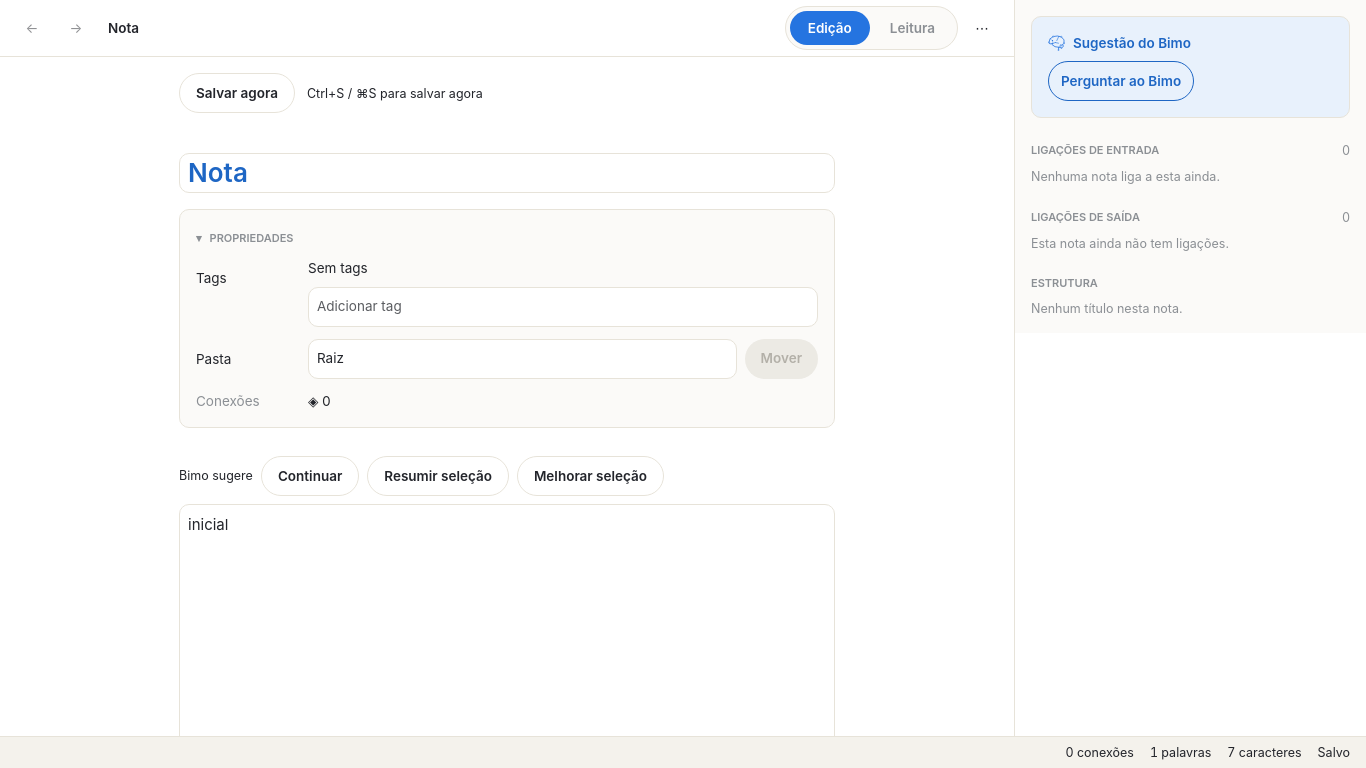
it: resolve conflito: usar e mantém foco
Replace the text in the text box named "Texto da nota" with "minha". click: (507, 632)
box: x1=179 y1=504 x2=835 y2=760
Wait 63000 ms
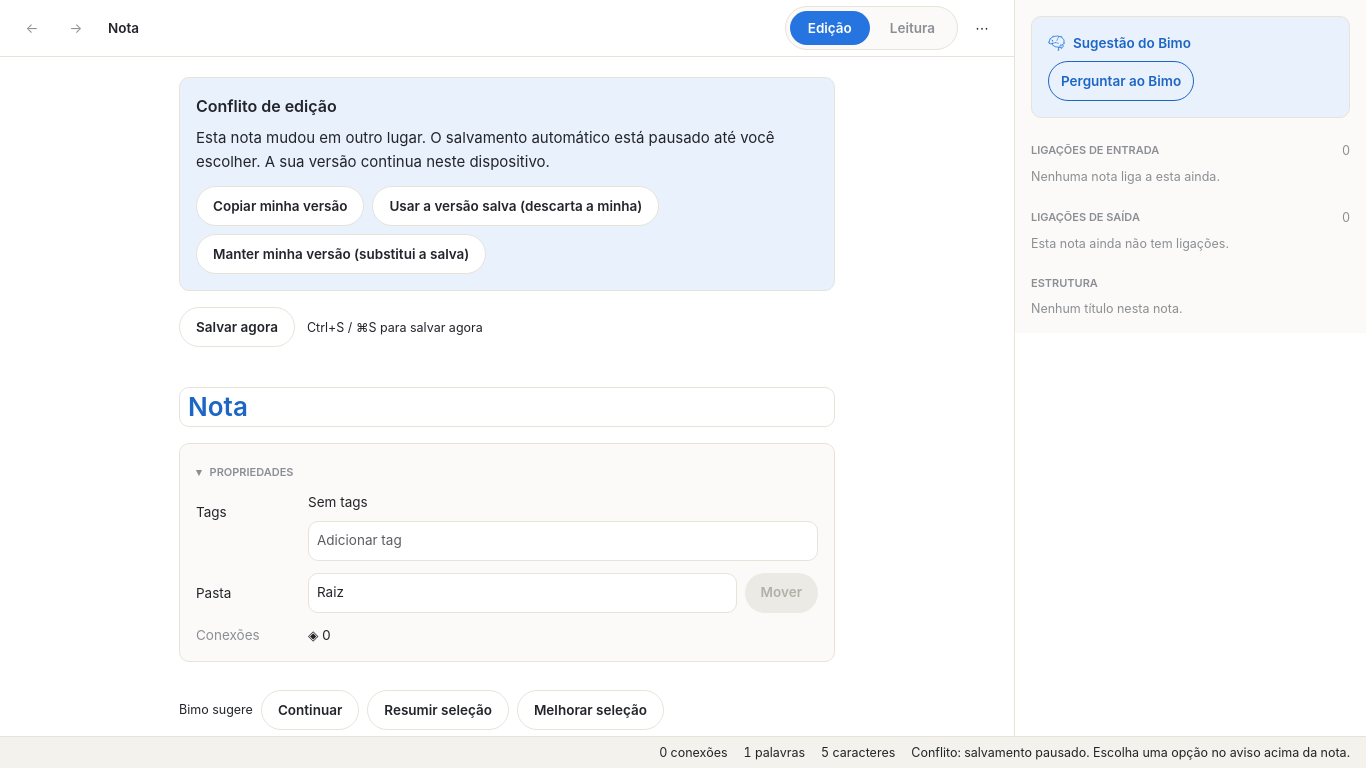
expect the element "Conflito de edição" is shown: met, box x1=147 y1=57 x2=867 y2=291
Click the button "Usar a versão salva (descarta a minha)". click: (516, 206)
box: x1=372 y1=186 x2=659 y2=226
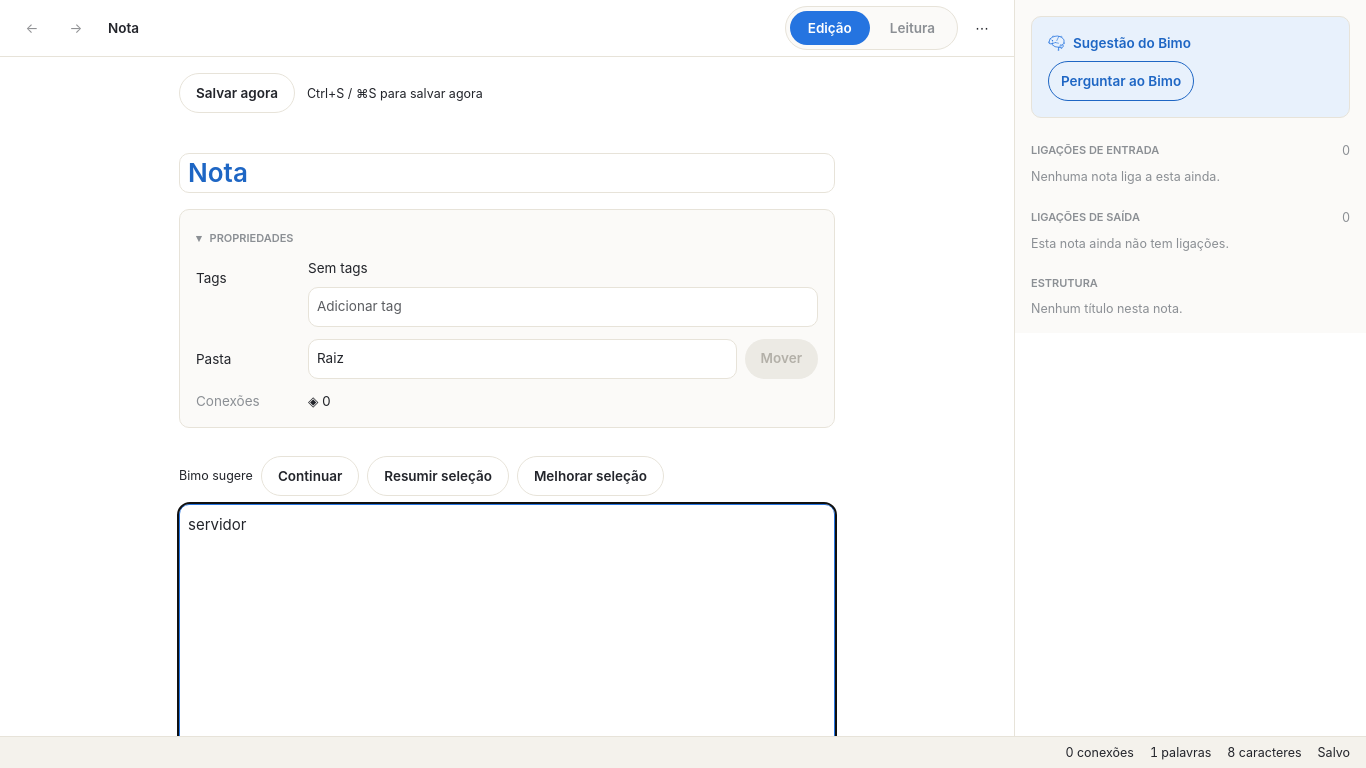
expect the text box named "Texto da nota" holds "servidor": met, box x1=179 y1=504 x2=835 y2=736
